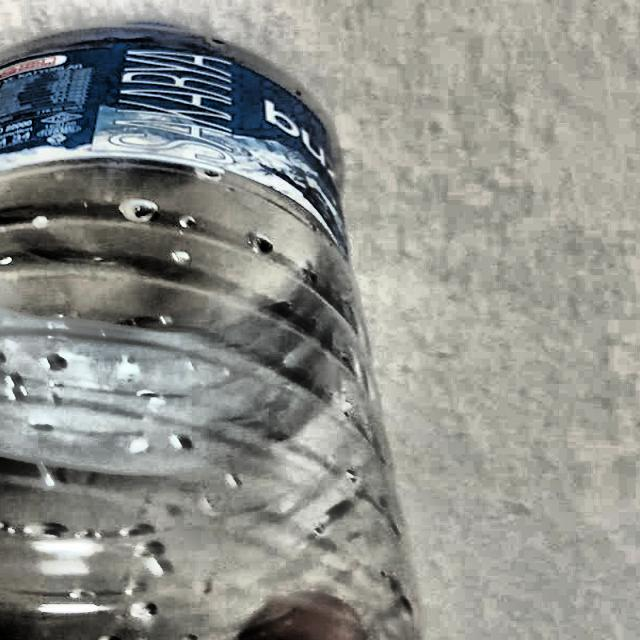plastic: (0, 17, 438, 640)
